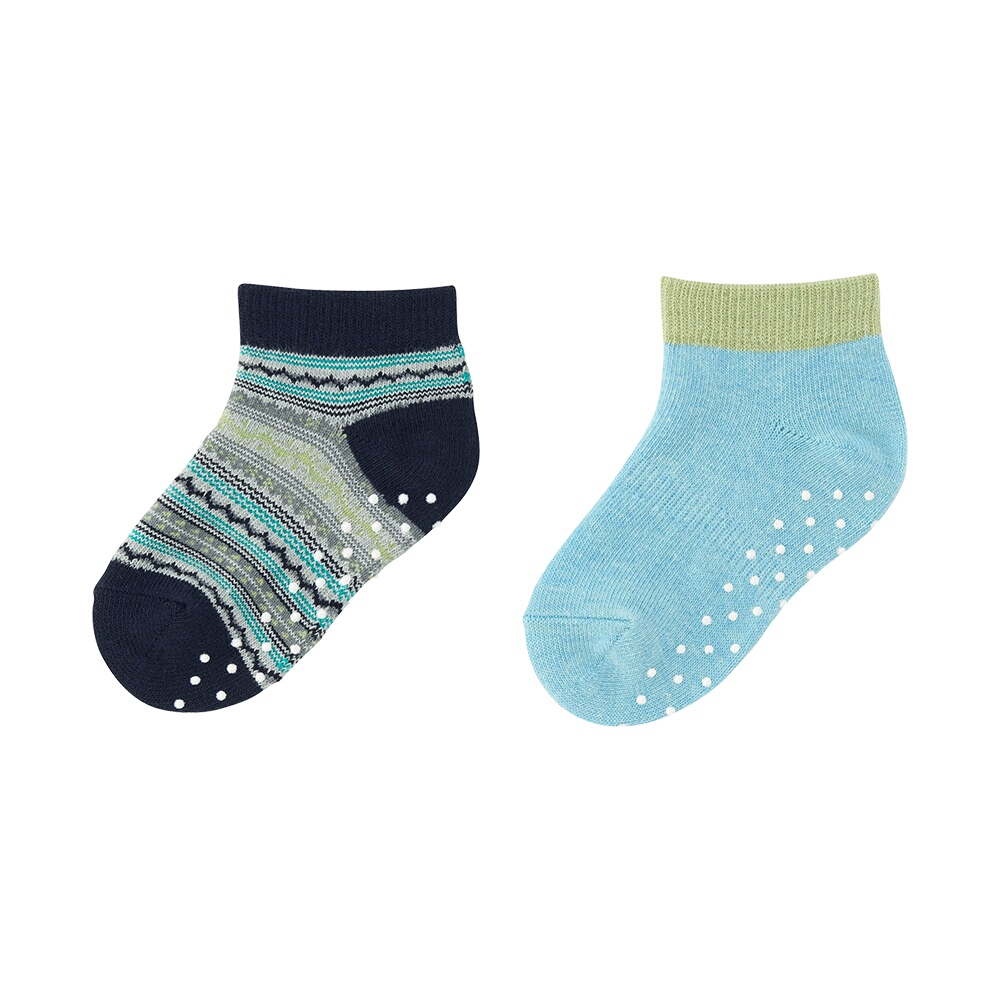flexible: (515, 277, 927, 730), (82, 268, 488, 715)
